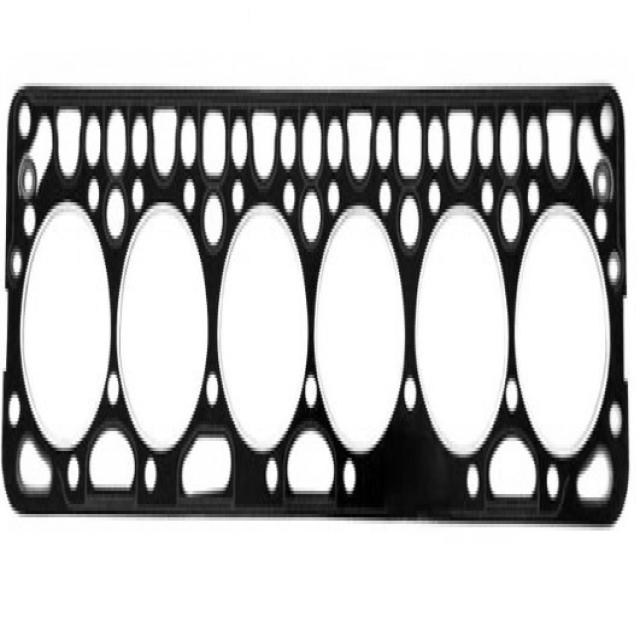missing hole: (378, 415, 459, 529)
